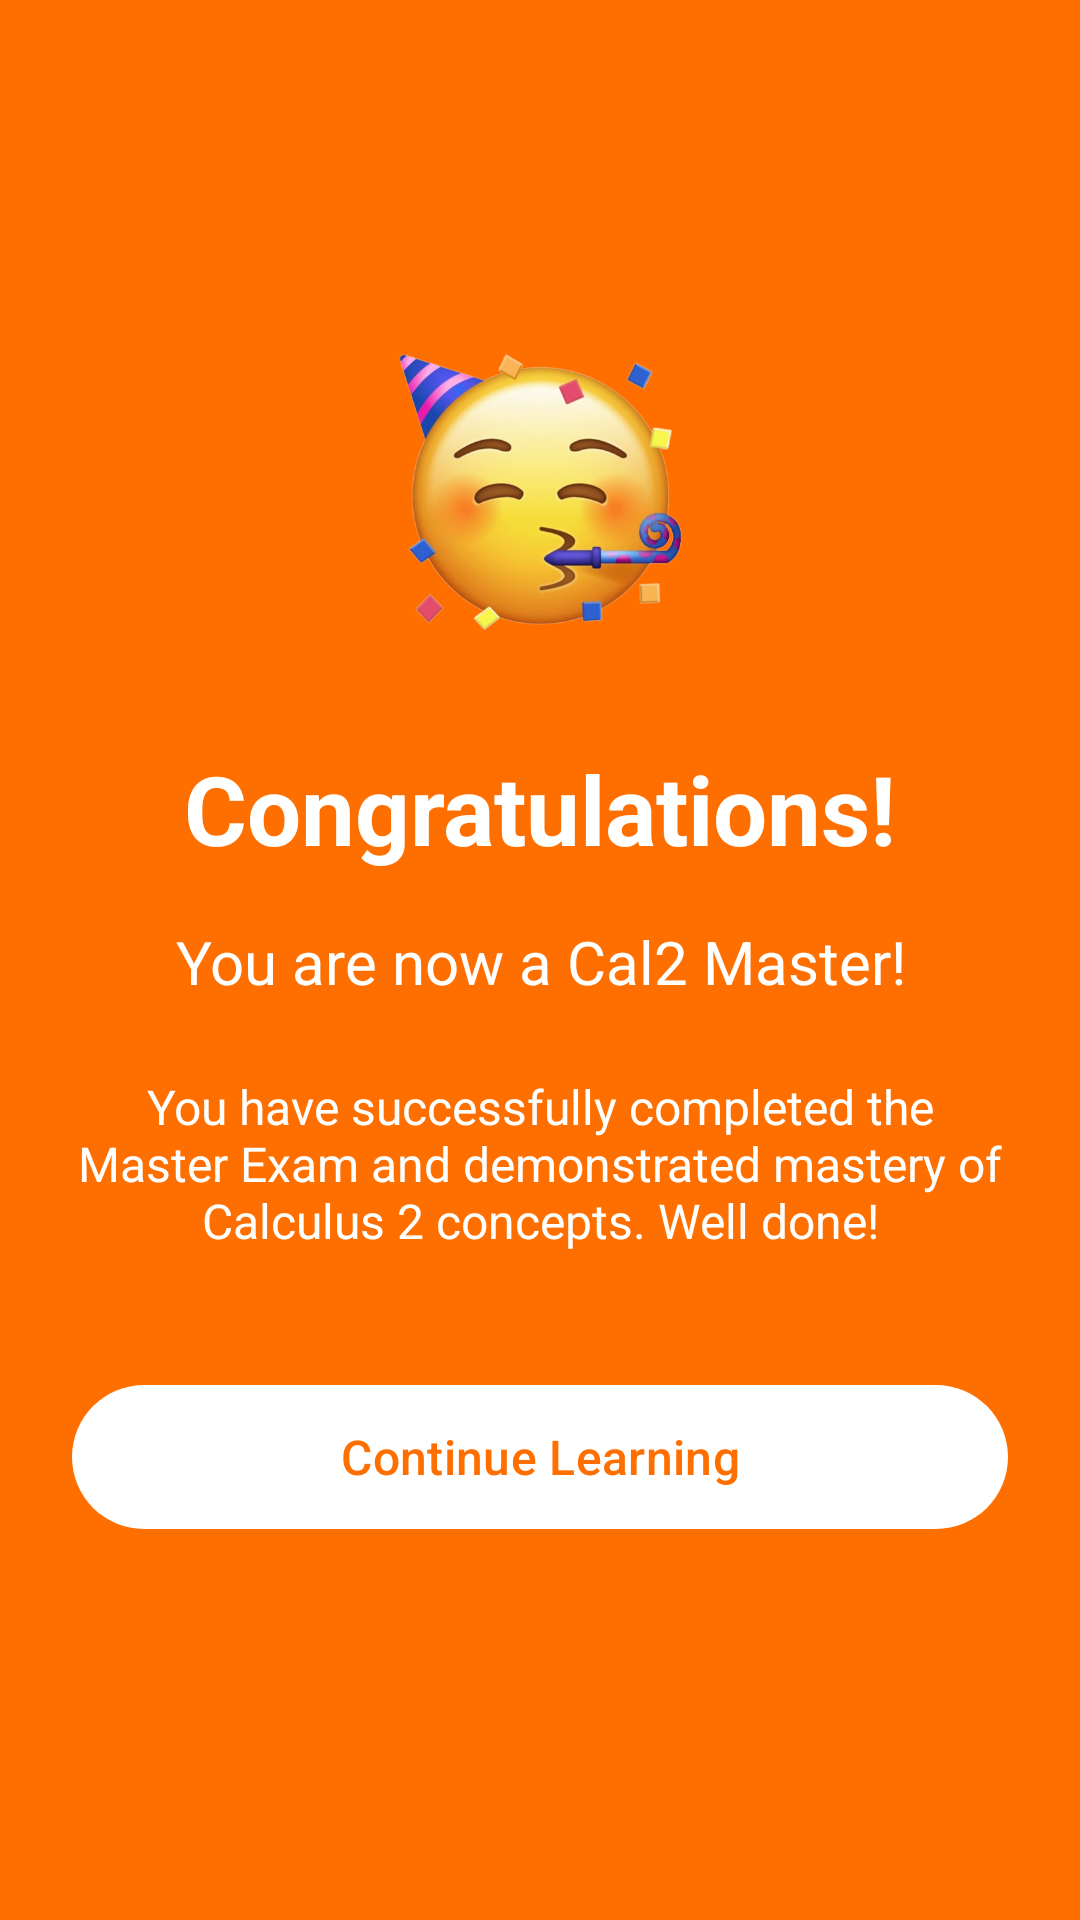

Locate icon controls on the screen. Image size 1080*1920, boxes as box(x1, y1, x2, y2).
celebrate: box(400, 354, 682, 630)
